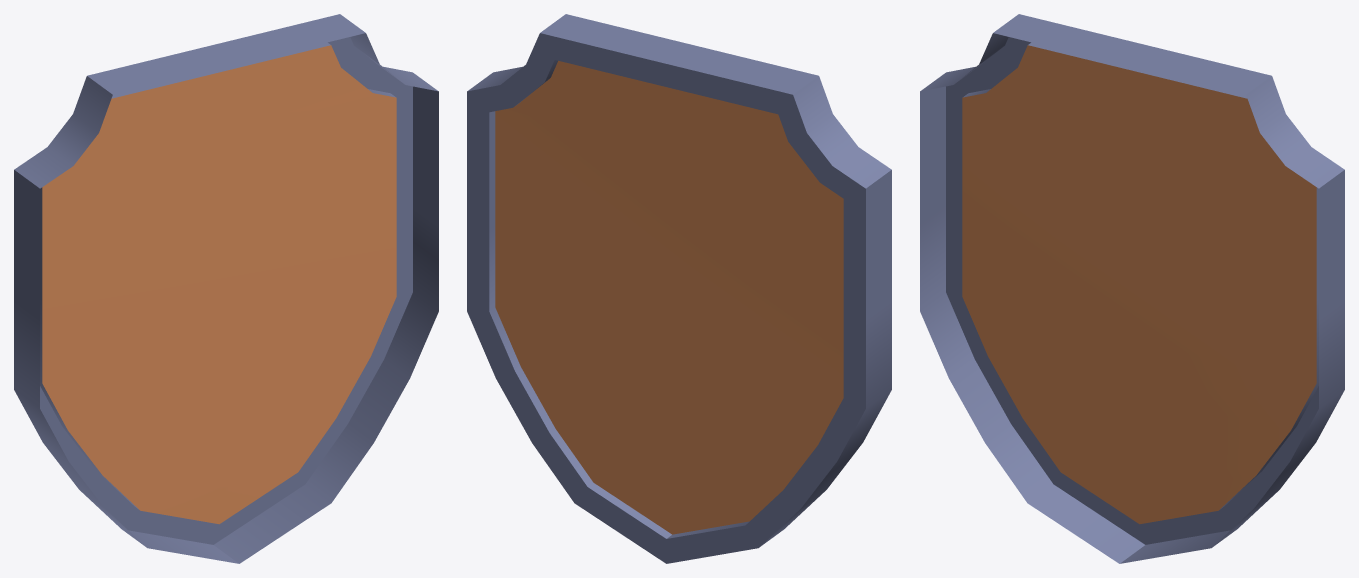
Rendered from Inmunerabilidad.fbx.
3 views of the same model, side by side, from view 1: azimuth 30°, elevation 25°; view 2: azimuth 150°, elevation 25°; view 3: azimuth 330°, elevation 25° (orthographic).
Visible parts, largest first — view 1: Cube; view 2: Cube; view 3: Cube.
Boxes of the visible parts, box(x1,y1,x2,y2) form: Cube: box(14, 14, 438, 563); Cube: box(467, 14, 891, 563); Cube: box(920, 14, 1344, 563).
Size of the model in its own units: 200 by 240 by 22.59.
